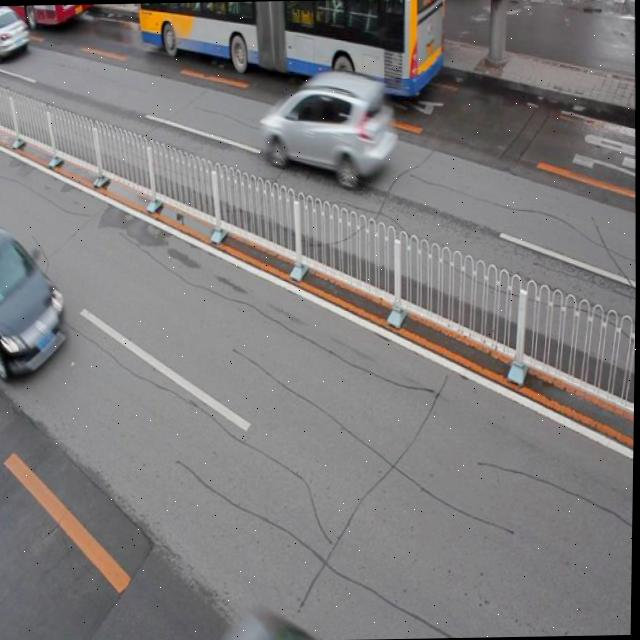car: (261, 69, 394, 190), (0, 218, 69, 377), (0, 5, 29, 61)
van: (136, 0, 444, 98), (0, 4, 94, 26)
